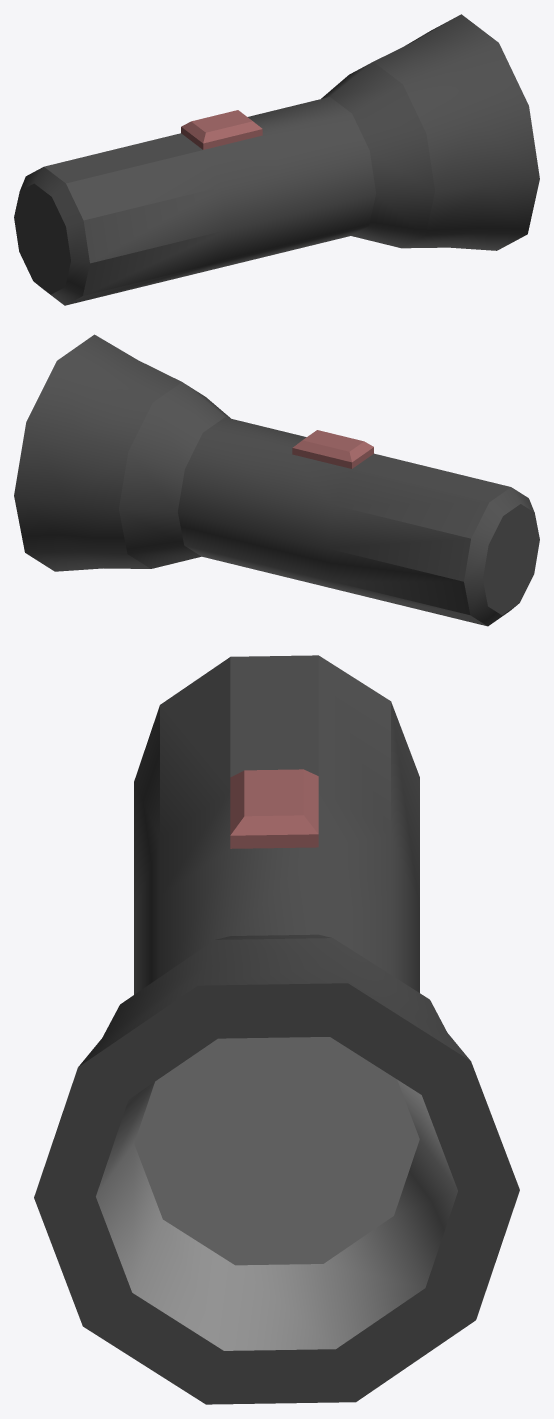
Rendered from Flashlight.fbx.
3 views of the same model, one above another, from view 1: azimuth 30°, elevation 25°; view 2: azimuth 150°, elevation 25°; view 3: azimuth 270°, elevation 25° (orthographic). The views are drawn at different scales.
Visible parts, largest first — view 1: Flashlight; view 2: Flashlight; view 3: Flashlight.
Part boxes in pixels (<box>): Flashlight: <box>14,14,539,305</box>; Flashlight: <box>14,334,539,626</box>; Flashlight: <box>34,655,519,1404</box>.
Bounding box in the file's own units: 10.84 × 5 × 5.23.
